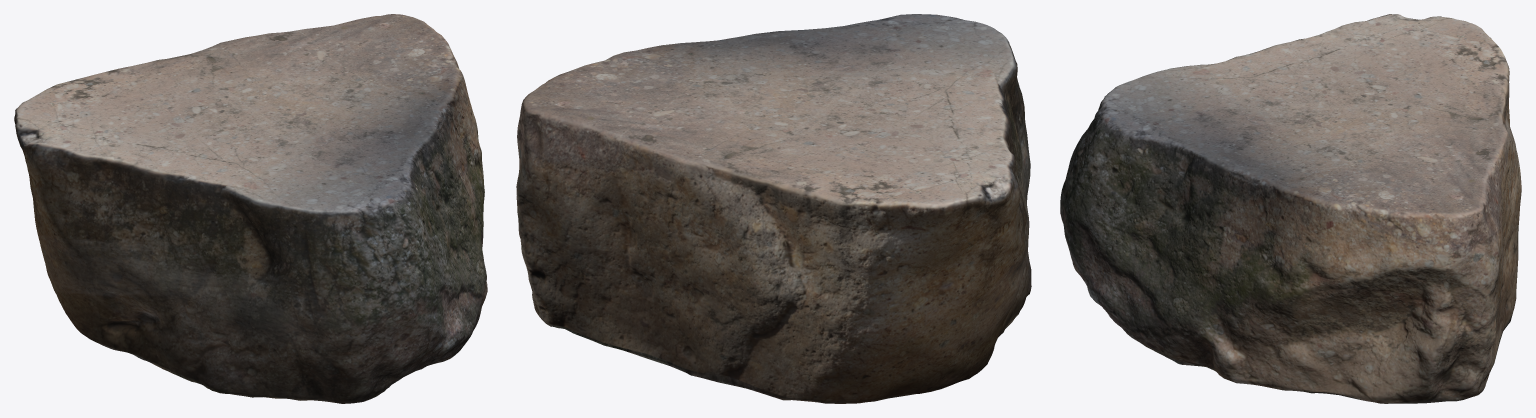
Rendered from flat__rock.glb.
3 renders of one model, left to right at view 1: azimuth 30°, elevation 25°; view 2: azimuth 150°, elevation 25°; view 3: azimuth 270°, elevation 25°, orthographic. The views are drawn at different scales.
Parts seen in each view (by area): view 1: Object_2; view 2: Object_2; view 3: Object_2.
Part boxes in pixels (box(x1,y1,x2,y2)): Object_2: box(14, 14, 487, 403); Object_2: box(516, 14, 1031, 403); Object_2: box(1060, 14, 1521, 403).
Size of the model in its own units: 32.2 by 14.23 by 30.09.
1 material, 1 textured.
